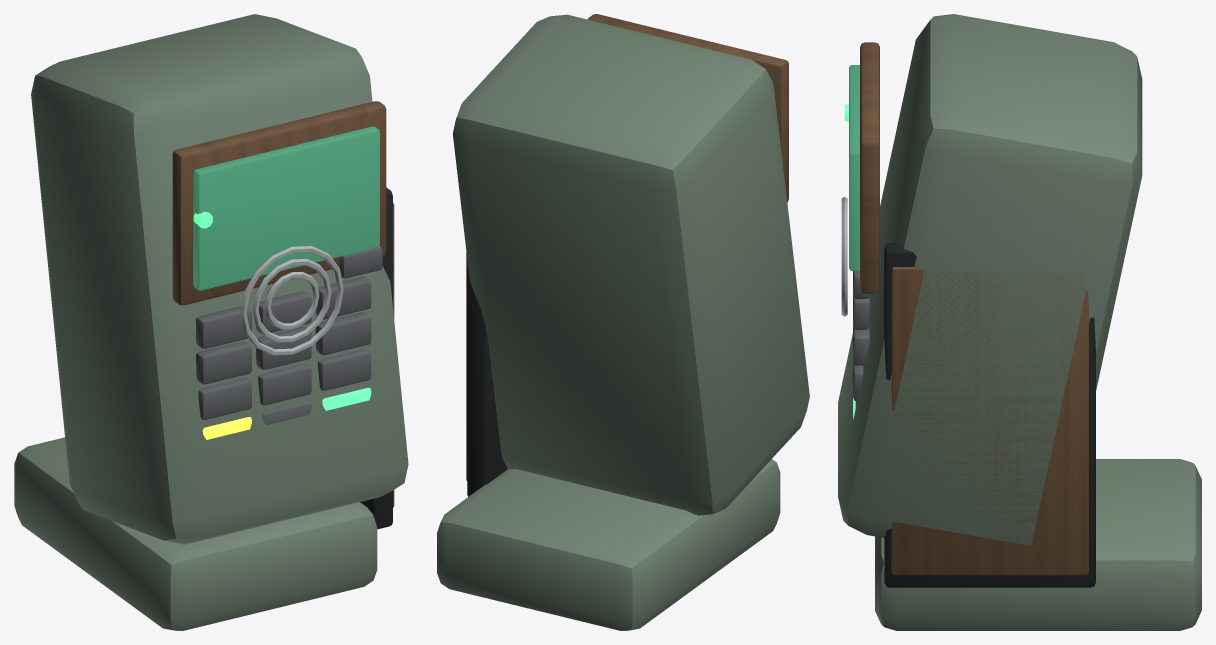
File: card_reader_high_end.glb
3 views of the same model, side by side, from view 1: azimuth 30°, elevation 25°; view 2: azimuth 150°, elevation 25°; view 3: azimuth 270°, elevation 25° (orthographic). The views are drawn at different scales.
Parts seen in each view (by area): view 1: Reader_Shell, Reader_Stand, Terminal_Screen, Reader_ScreenFrame, Reader_NFC_2, Terminal_Key_4, Terminal_Key_6, Terminal_Key_9, Terminal_Key_8, Terminal_Key_7, Terminal_Key_1, Reader_NFC_1 (+9 smaller); view 2: Reader_Shell, Reader_Stand, Reader_SwipeRailOuter, Reader_ScreenFrame; view 3: Reader_Shell, Reader_SwipeRailInner, Reader_Stand, Reader_SwipeRailOuter, Reader_ScreenFrame, Terminal_Screen, Reader_NFC_2, Terminal_Key_6, Terminal_Key_3.
Boxes of the visible parts, x1,y1,x2,y2 form: Reader_Shell: (31,14,408,544); Reader_Stand: (14,437,377,630); Terminal_Screen: (193,126,379,290); Reader_ScreenFrame: (172,101,386,305); Reader_NFC_2: (240,246,343,355); Terminal_Key_4: (196,341,251,384); Terminal_Key_6: (315,312,371,355); Terminal_Key_9: (317,348,371,390); Terminal_Key_8: (258,363,311,405); Terminal_Key_7: (198,378,251,419); Terminal_Key_1: (196,306,251,348); Reader_NFC_1: (252,259,331,342); Reader_Shell: (453,14,809,515); Reader_Stand: (437,459,780,630); Reader_SwipeRailOuter: (467,260,507,496); Reader_ScreenFrame: (587,14,788,202); Reader_Shell: (838,14,1142,545); Reader_SwipeRailInner: (891,267,1088,575); Reader_Stand: (875,459,1201,630); Reader_SwipeRailOuter: (884,243,1095,587); Reader_ScreenFrame: (860,42,879,293); Terminal_Screen: (849,65,859,270); Reader_NFC_2: (841,197,847,316); Terminal_Key_6: (853,326,869,365); Terminal_Key_3: (853,295,869,329).
Size of what is drawn, in the model's own units: 0.104 by 0.204 by 0.1286.
8 materials, 1 textured.
